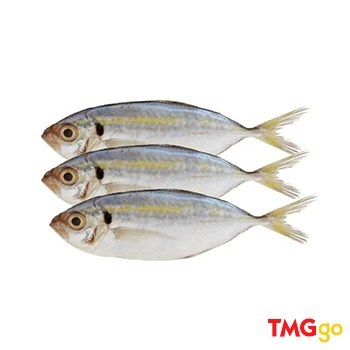Ikan Selar: (31, 93, 302, 163), (34, 196, 313, 263), (31, 148, 300, 208)
